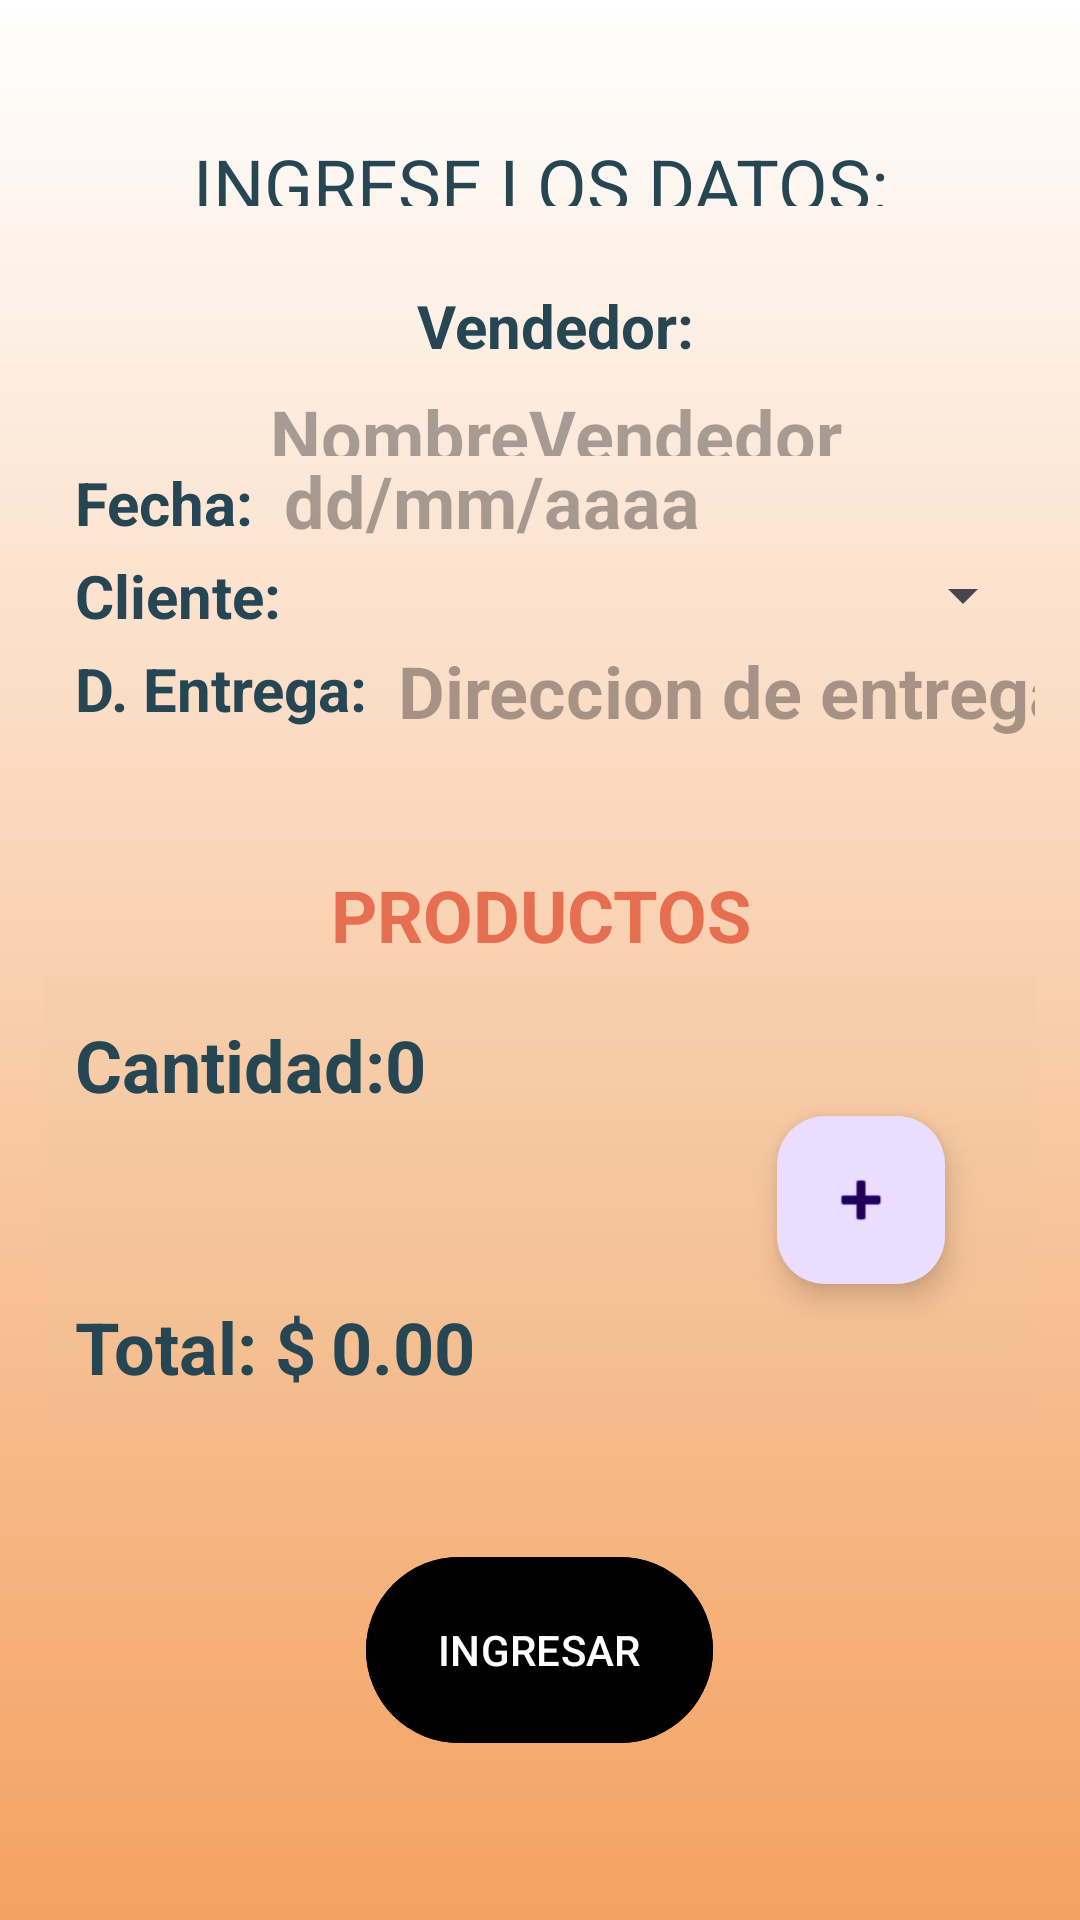

Icons on this 1080px×1920px Android screen, each with the point to tap as (x,y):
add: (861,1200)
